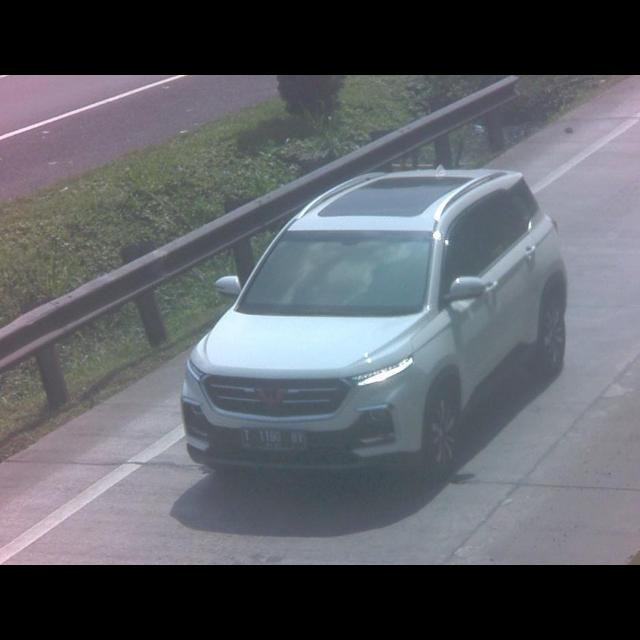plate: (237, 424, 313, 454)
